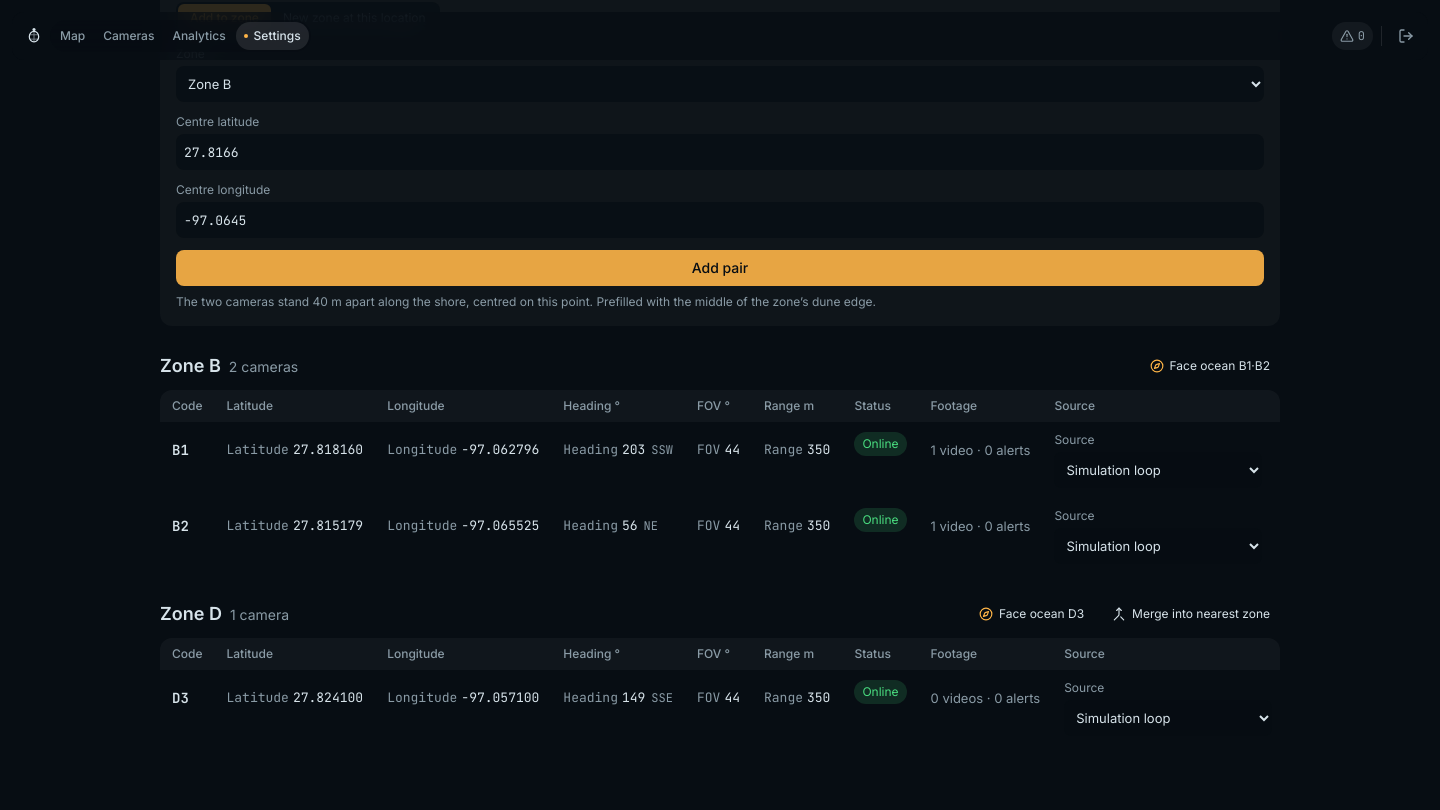
Test: CamerasScreen › asks before merging a zone into its nearest neighbour
(page scrolled)
Click the button "Merge into nearest zone".
click(1191, 614)  # box [1102,598,1280,630]
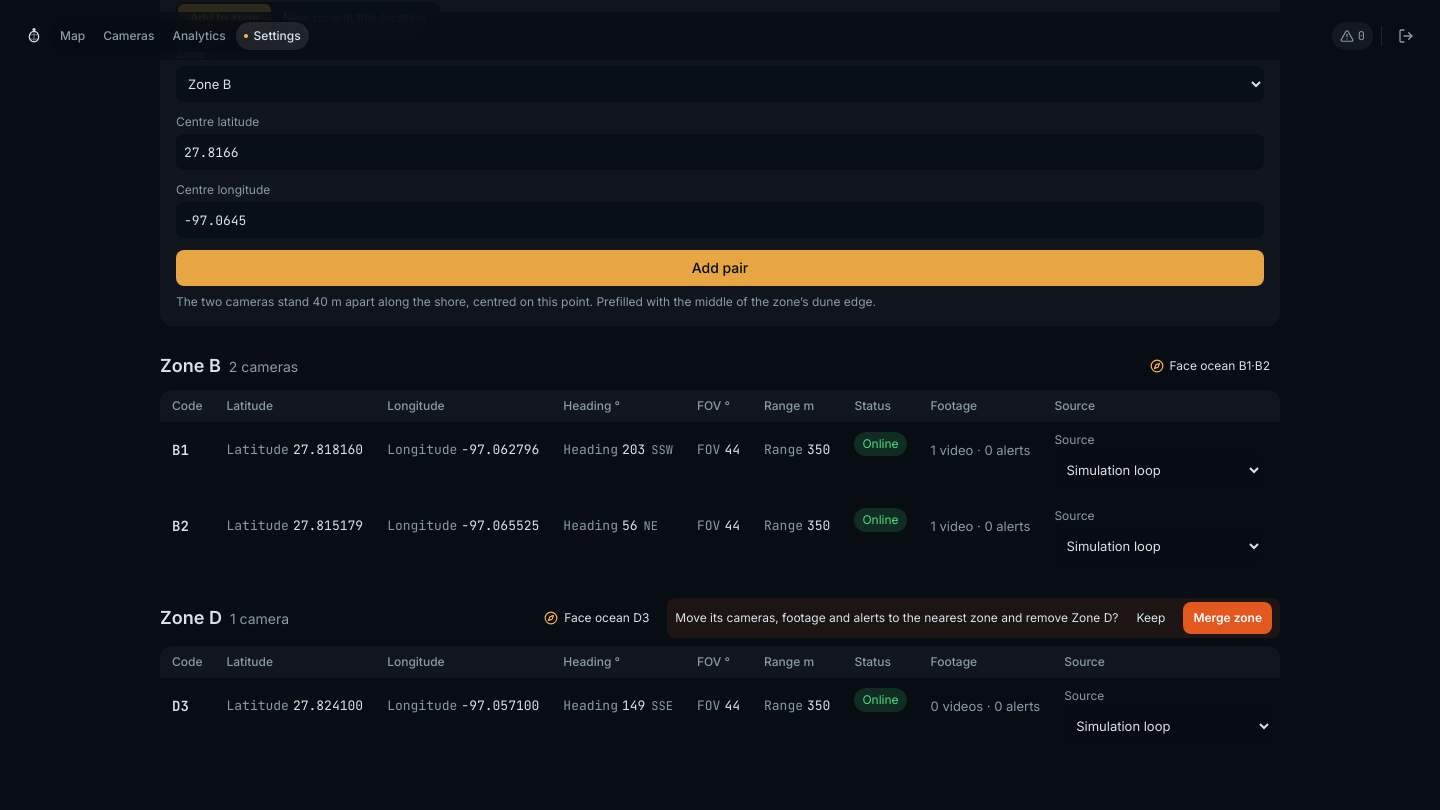
Click the button "Merge zone".
click(1228, 618)  # box [1183,602,1272,634]
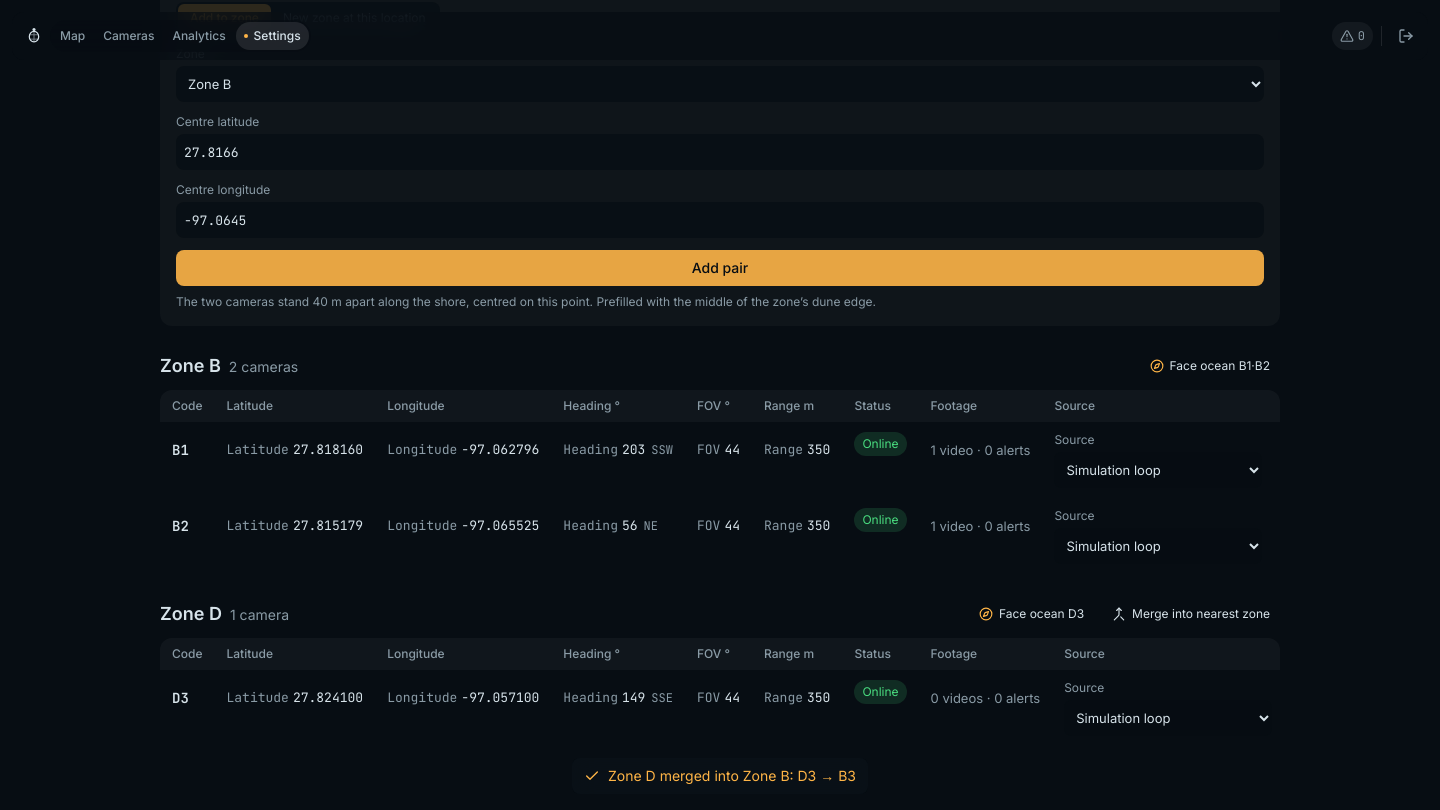
Result: the text "Zone D merged into Zone B: D3 → B3" is shown at [572,758,868,794]
